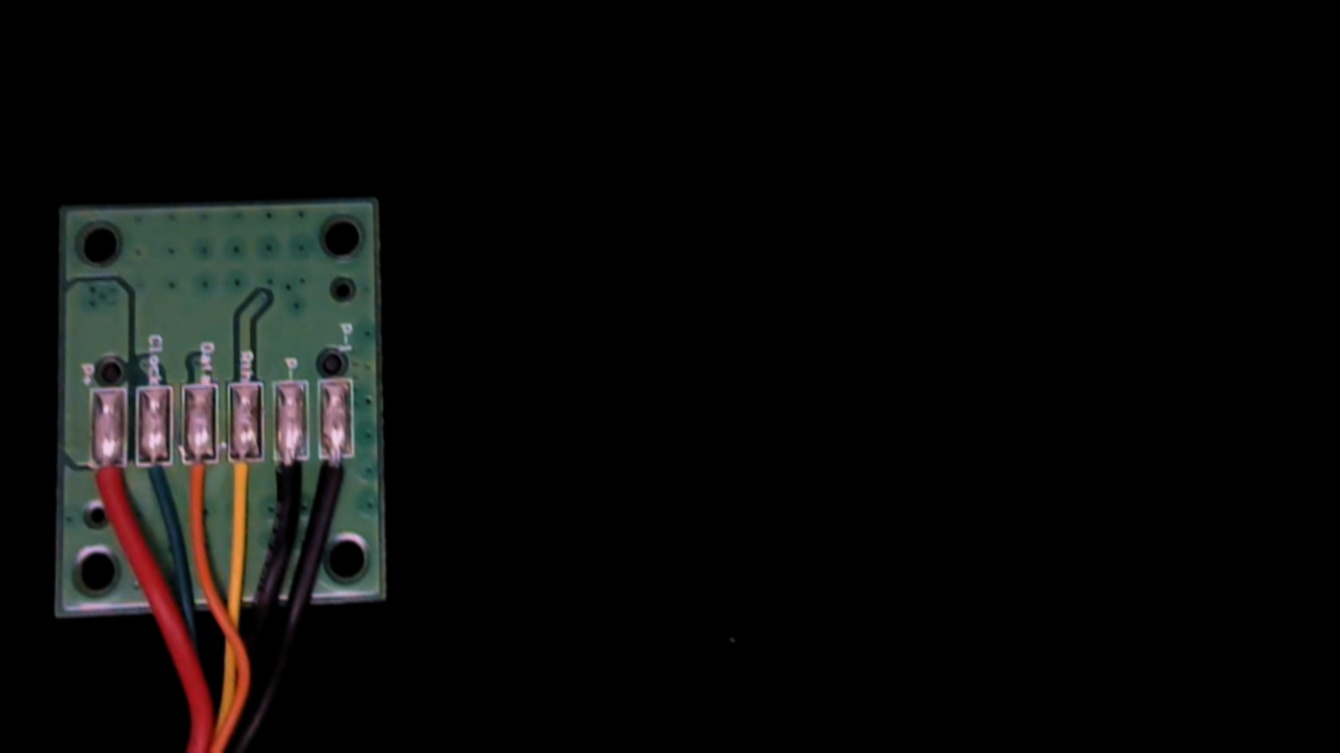Black: (270, 436, 305, 520)
Black1: (319, 435, 357, 518)
Green: (131, 441, 173, 522)
Orange: (178, 440, 217, 529)
Red: (84, 441, 125, 527)
Yellow: (221, 435, 262, 526)
